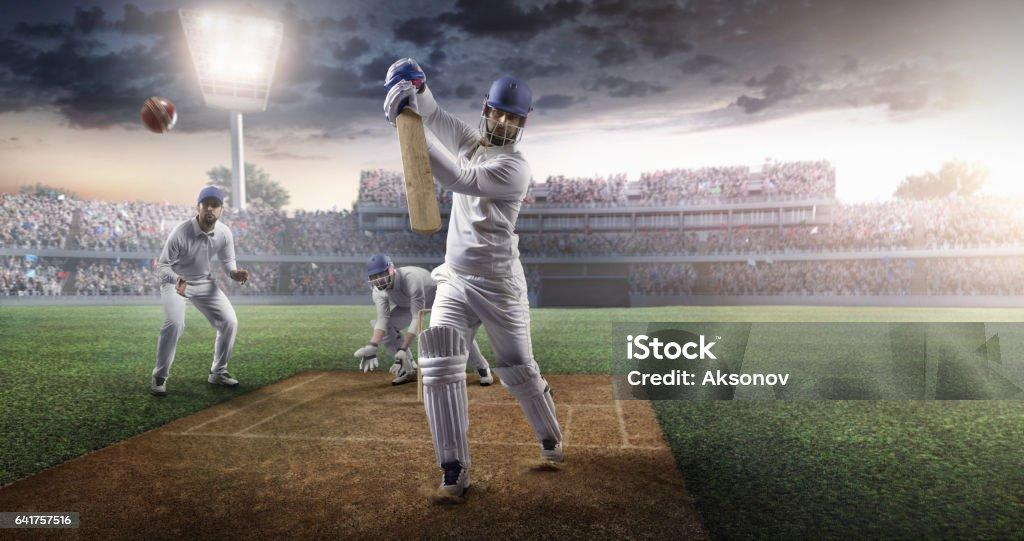batsman: (396, 33, 572, 491)
